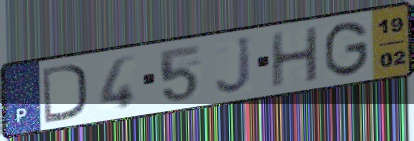4: (96, 54, 139, 113)
5: (157, 42, 204, 105)
D: (39, 61, 90, 126)
G: (322, 18, 371, 79)
H: (268, 24, 322, 90)
J: (213, 33, 255, 96)
